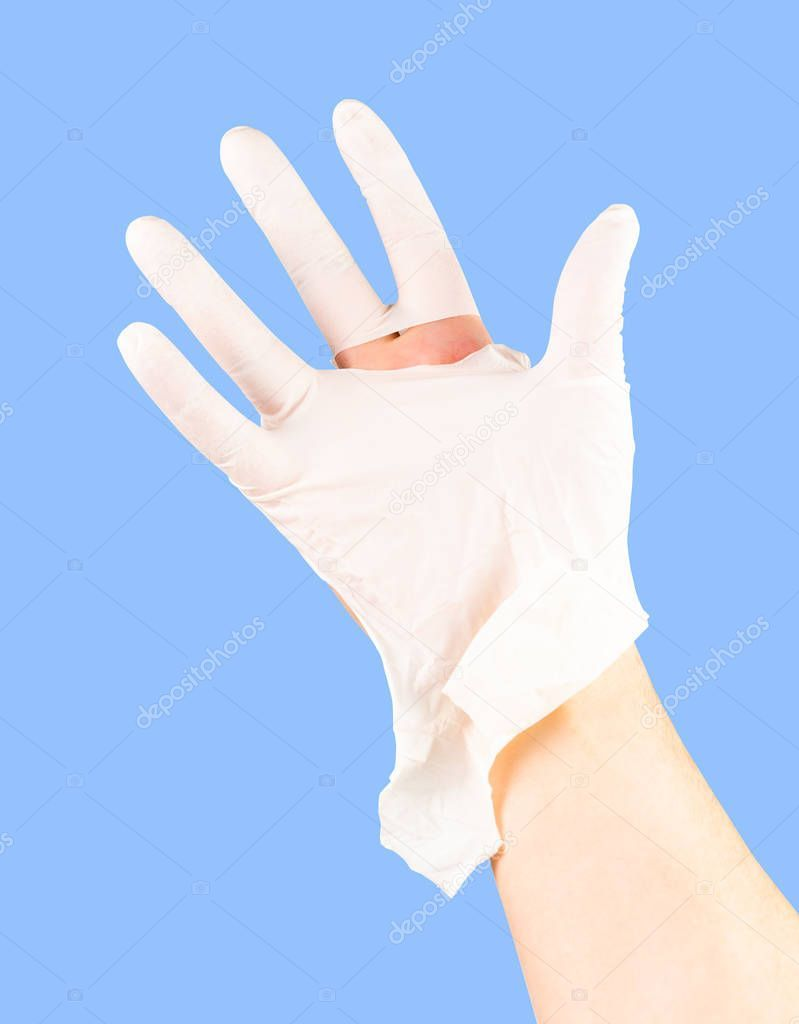defected: (104, 105, 740, 786)
